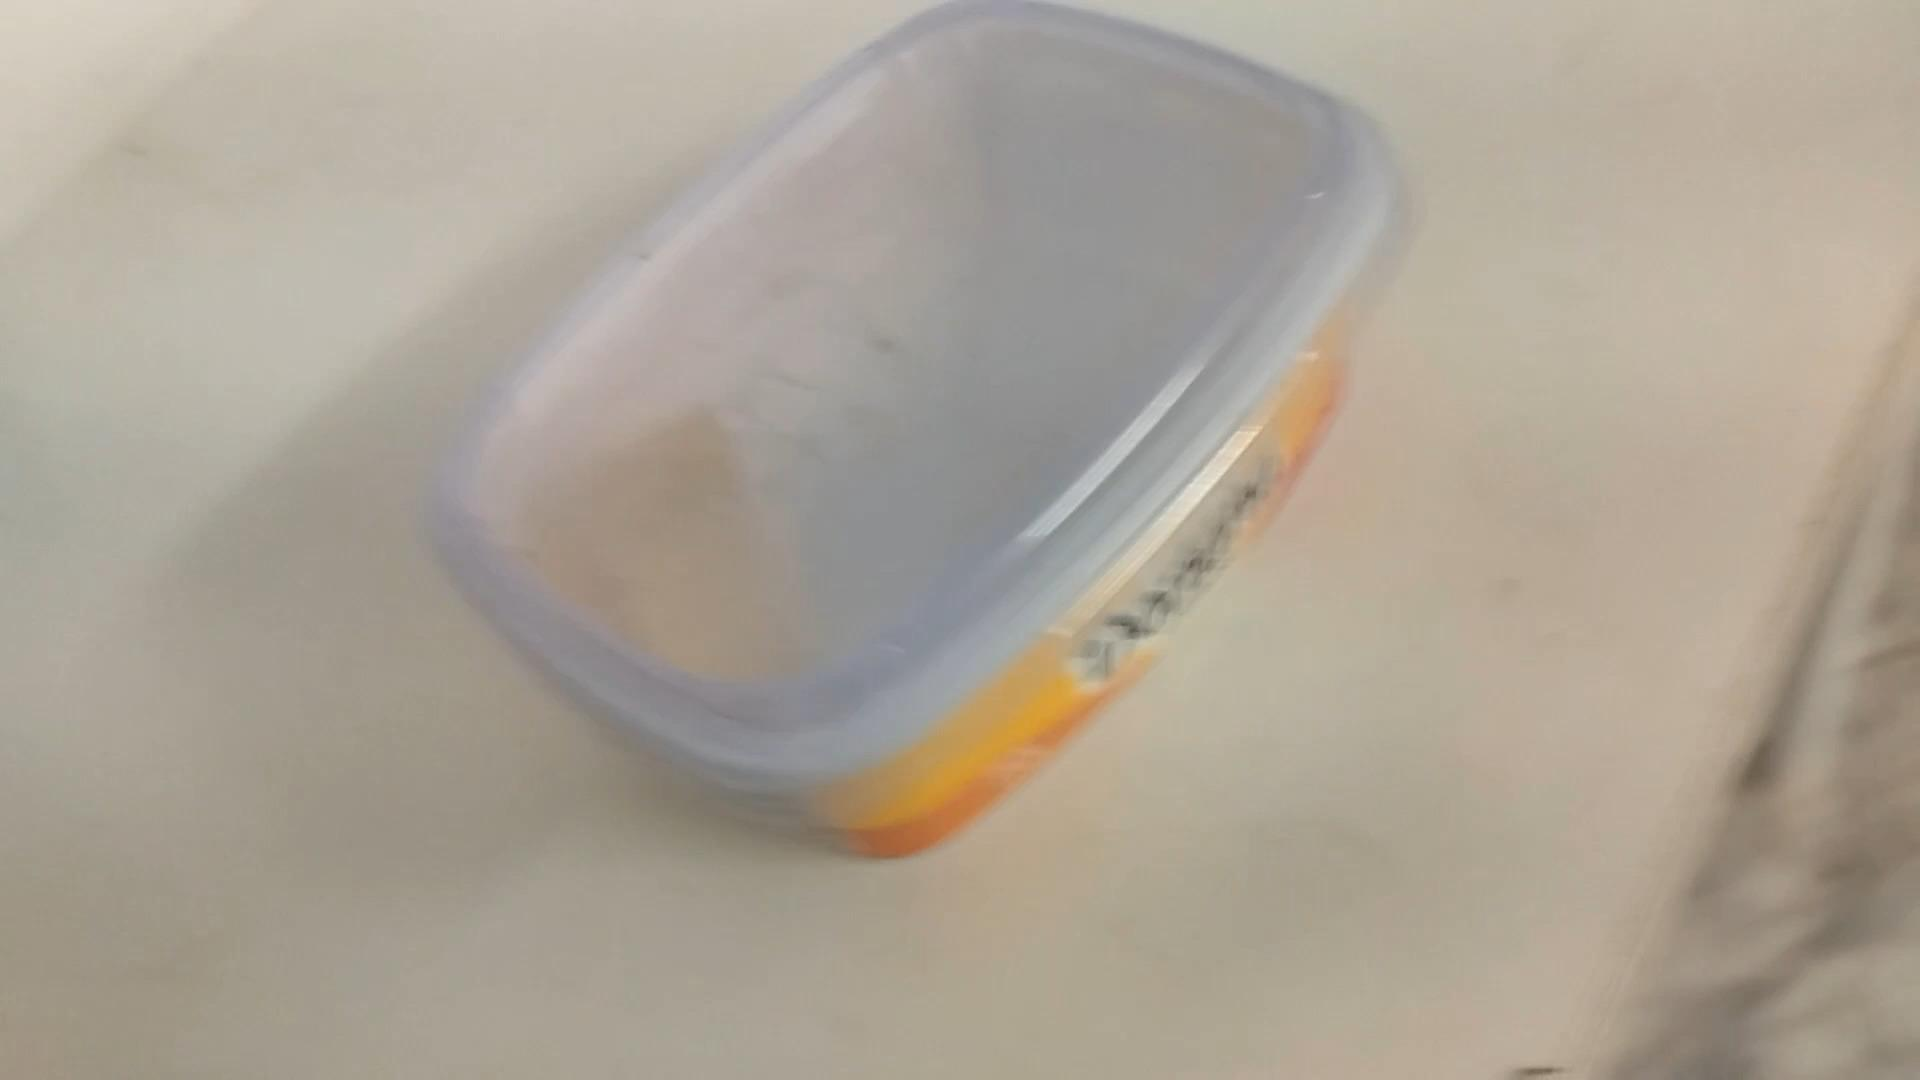butter: (425, 4, 1396, 869)
